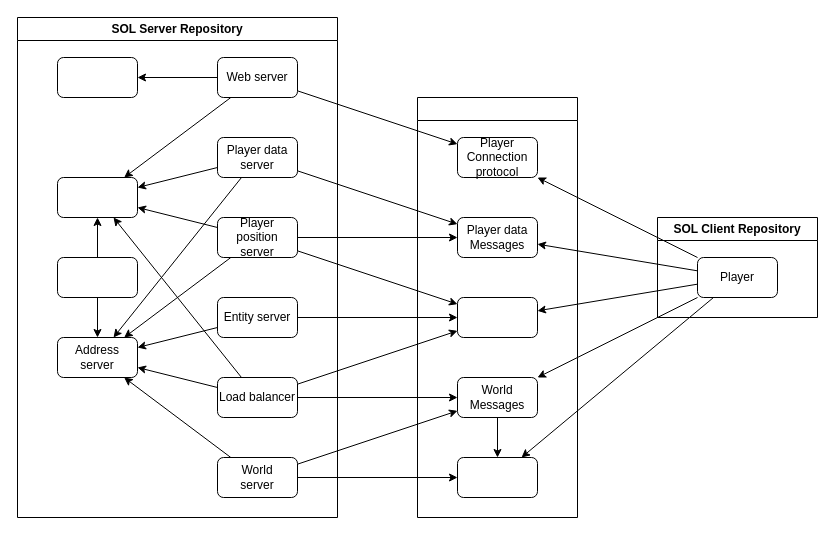
Some shapes in this 835 by 535 pixel diagram are drawn without their labels. The shapes that lost their labels are listed below. From the top down, each one's box as (x1, y1, x2, y2) in pixels, then its label:
(56, 56, 138, 98): Authentication server
(56, 176, 138, 218): Log-in protocol
(56, 256, 138, 298): Log-in server
(416, 96, 578, 518): SOL Shared Repository
(456, 296, 538, 338): Entity Messages
(456, 456, 538, 498): voxel engine lib
